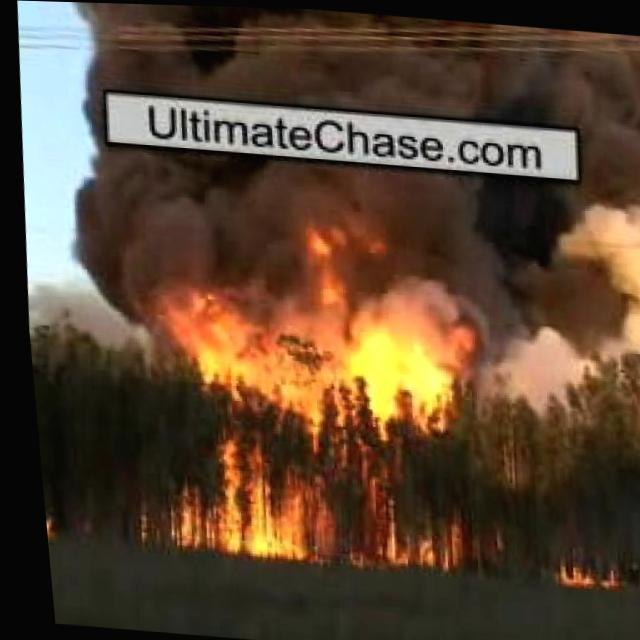Fire: (138, 228, 497, 575), (545, 554, 616, 587), (36, 510, 46, 544)
Smoke: (63, 138, 640, 324), (67, 2, 640, 127), (545, 554, 616, 587), (36, 510, 46, 544)
